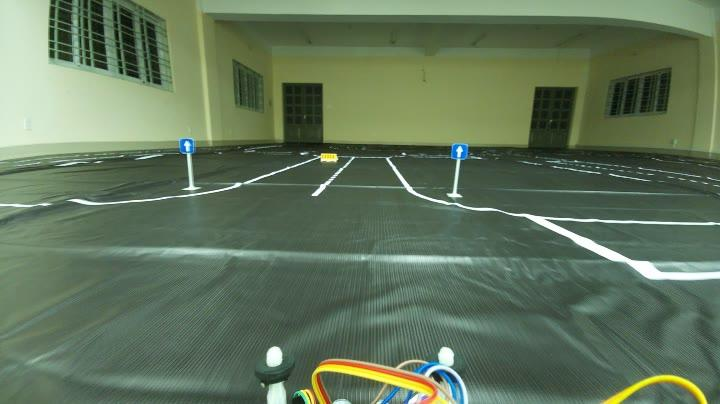onewayroad: (175, 135, 193, 154), (452, 140, 468, 160)
roadblock: (318, 150, 340, 164)
